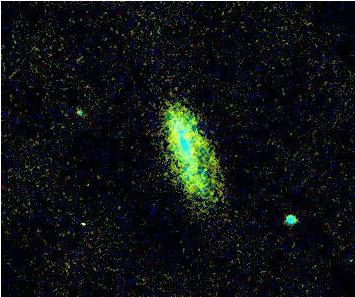star: (182, 108, 212, 138)
